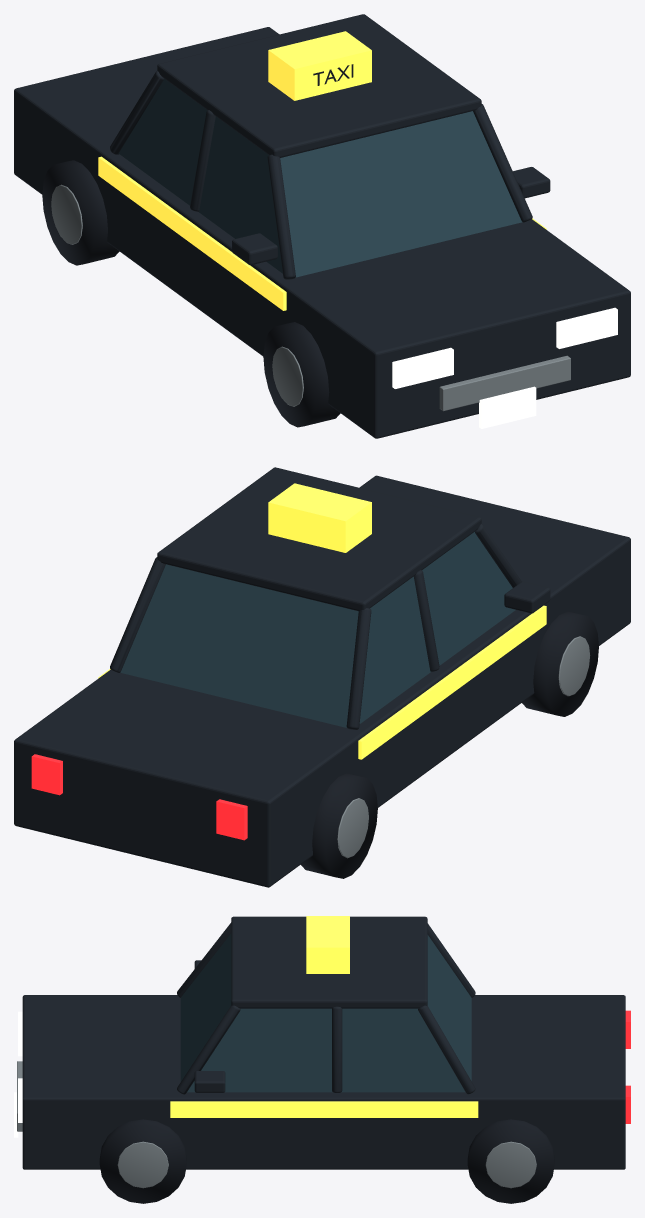
Rendered from taxi.glb.
The picture shows the model from 3 angles, top to bottom: view 1: azimuth 30°, elevation 25°; view 2: azimuth 150°, elevation 25°; view 3: azimuth 270°, elevation 25°; orthographic projection. The views are drawn at different scales.
Parts seen in each view (by area): view 1: taxi paint, taxi tinted windows, taxi taxi crown, taxi tires, taxi trim, taxi headlights; view 2: taxi paint, taxi tinted windows, taxi taxi crown, taxi tires, taxi trim, taxi tail lights; view 3: taxi paint, taxi tinted windows, taxi tires, taxi taxi crown, taxi trim, taxi headlights, taxi tail lights.
Boxes of the visible parts, x1,y1,x2,y2 form: taxi paint: (14,14,630,438); taxi tinted windows: (118,78,522,277); taxi taxi crown: (98,31,546,310); taxi tires: (42,160,340,427); taxi trim: (51,184,570,411); taxi headlights: (392,307,617,428); taxi paint: (14,467,630,887); taxi tinted windows: (120,532,515,727); taxi taxi crown: (98,483,546,759); taxi tires: (301,611,598,878); taxi trim: (337,636,590,858); taxi tail lights: (31,754,247,840); taxi paint: (22,916,625,1169); taxi tinted windows: (180,933,471,1092); taxi tires: (99,1119,554,1203); taxi taxi crown: (170,916,478,1117); taxi trim: (17,1061,536,1188); taxi headlights: (14,1011,22,1137); taxi tail lights: (625,1010,630,1123).
Bounding box in the file's own units: 2.26 × 1.84 × 4.81.
